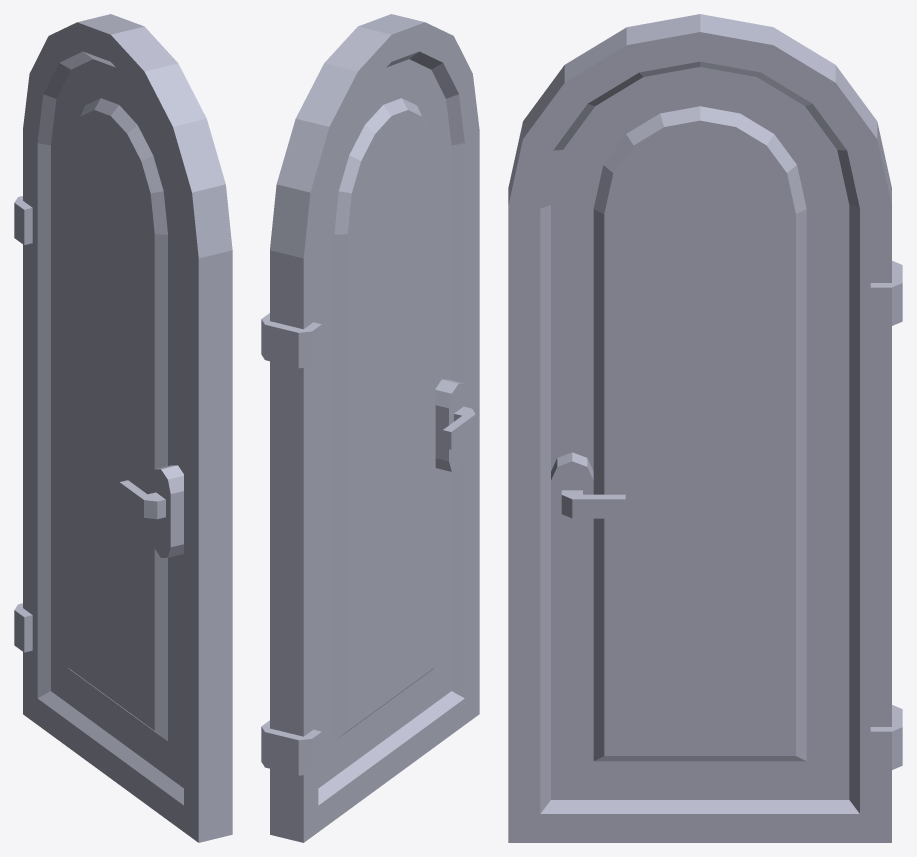
The model's file is door-rotate-round-b.obj.
3 renders of one model, left to right at view 1: azimuth 30°, elevation 25°; view 2: azimuth 150°, elevation 25°; view 3: azimuth 270°, elevation 25°, orthographic. The views are drawn at different scales.
Size of the model in its own units: 0.25 by 2.1 by 0.925.
